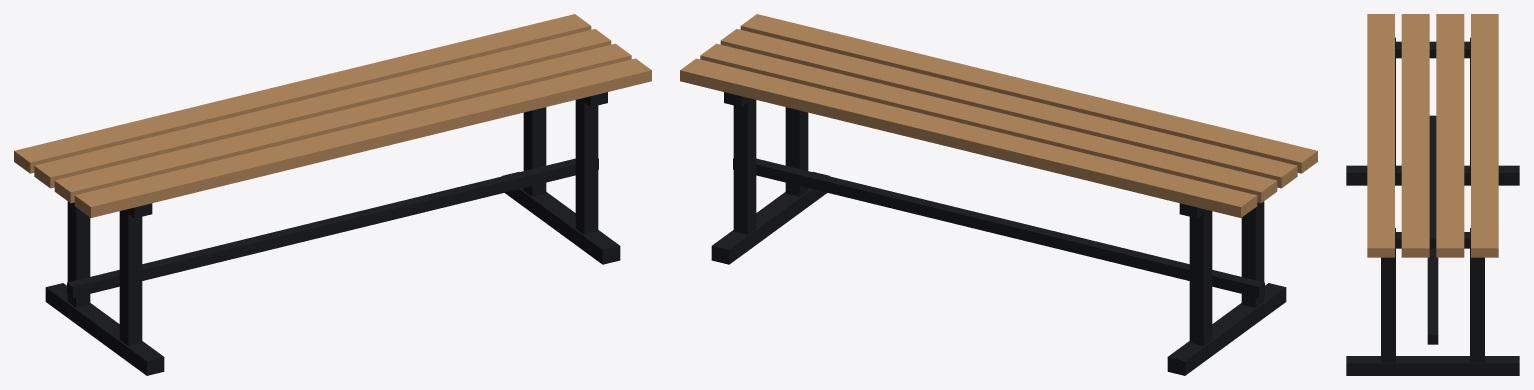
The model's file is bench_locker_room_bench.glb.
3 views of the same model, side by side, from view 1: azimuth 30°, elevation 25°; view 2: azimuth 150°, elevation 25°; view 3: azimuth 270°, elevation 25° (orthographic). The views are drawn at different scales.
Parts seen in each view (by area): view 1: bench_locker_room_bench; view 2: bench_locker_room_bench; view 3: bench_locker_room_bench.
Part boxes in pixels (x1,y1,x2,y2): bench_locker_room_bench: [14, 14, 651, 375]; bench_locker_room_bench: [680, 14, 1317, 375]; bench_locker_room_bench: [1346, 14, 1519, 375].
Bounding box in the file's own units: 1.6 × 0.465 × 0.5.
